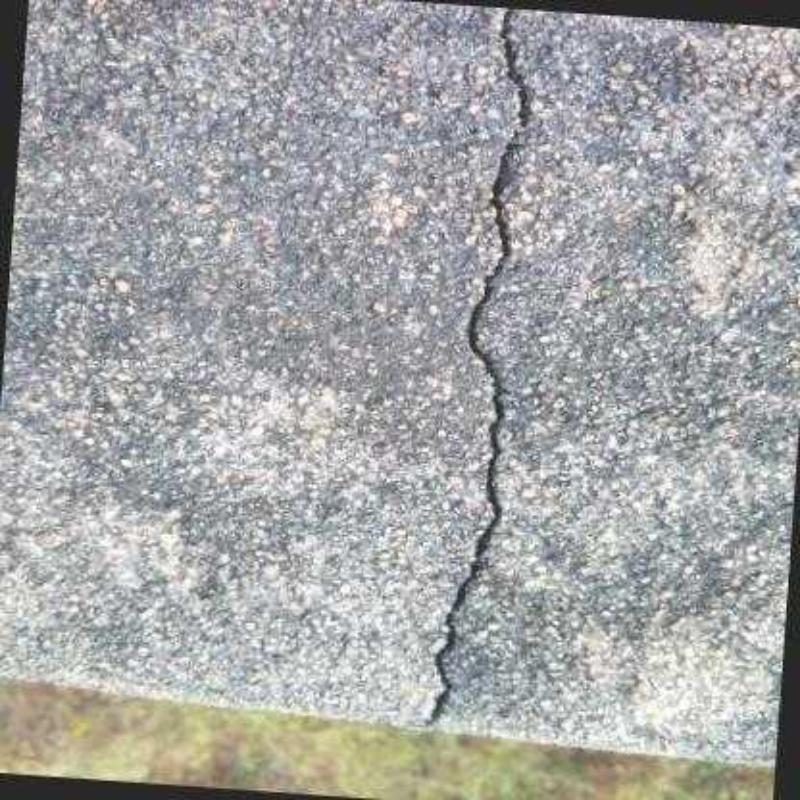pothole: (422, 7, 532, 727)
